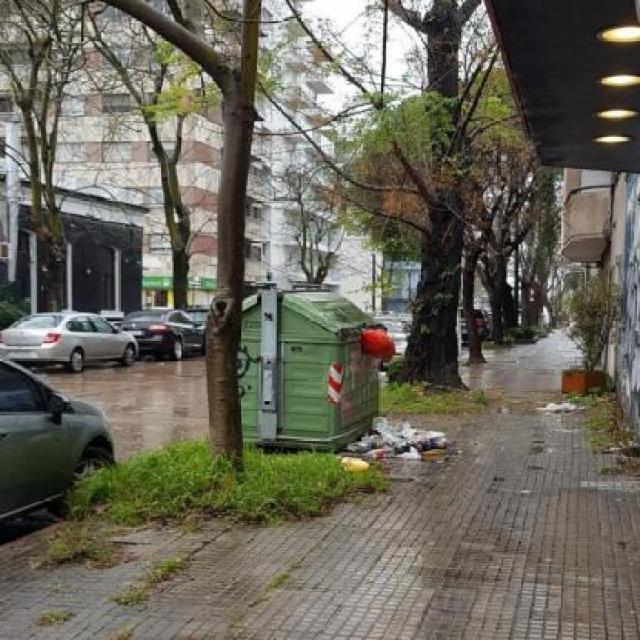garbage: (334, 383, 481, 506), (529, 328, 633, 471), (336, 312, 417, 393), (317, 351, 372, 431)
